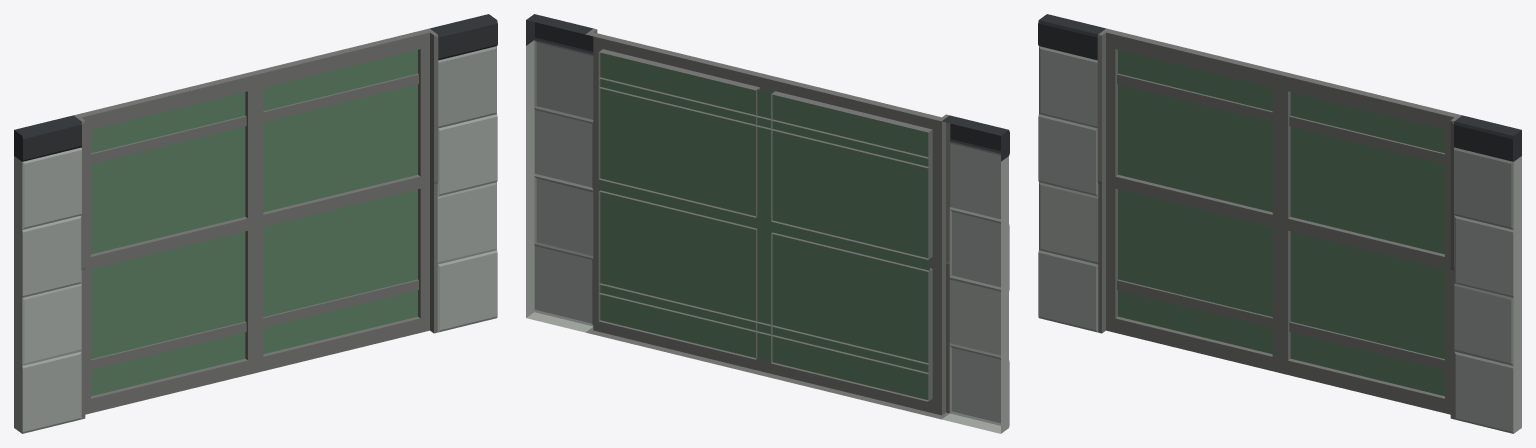
Rendered from Wall_Interior_Window_02.glb.
The picture shows the model from 3 angles, left to right: view 1: azimuth 30°, elevation 25°; view 2: azimuth 150°, elevation 25°; view 3: azimuth 330°, elevation 25°; orthographic projection.
Visible parts, largest first — view 1: SM_Env_Wall_Interior_Window_02, SM_Env_Wall_Interior_Window_Glass_02; view 2: SM_Env_Wall_Interior_Window_Glass_02, SM_Env_Wall_Interior_Window_02; view 3: SM_Env_Wall_Interior_Window_02, SM_Env_Wall_Interior_Window_Glass_02.
Boxes of the visible parts, x1,y1,x2,y2 form: SM_Env_Wall_Interior_Window_02: [14, 14, 497, 433]; SM_Env_Wall_Interior_Window_Glass_02: [91, 50, 417, 396]; SM_Env_Wall_Interior_Window_Glass_02: [600, 52, 929, 399]; SM_Env_Wall_Interior_Window_02: [526, 14, 1009, 433]; SM_Env_Wall_Interior_Window_02: [1038, 14, 1521, 433]; SM_Env_Wall_Interior_Window_Glass_02: [1118, 50, 1444, 396].
Bounding box in the file's own units: 5 × 3 × 0.1636.
Materials: 1 (1 with a texture image).
